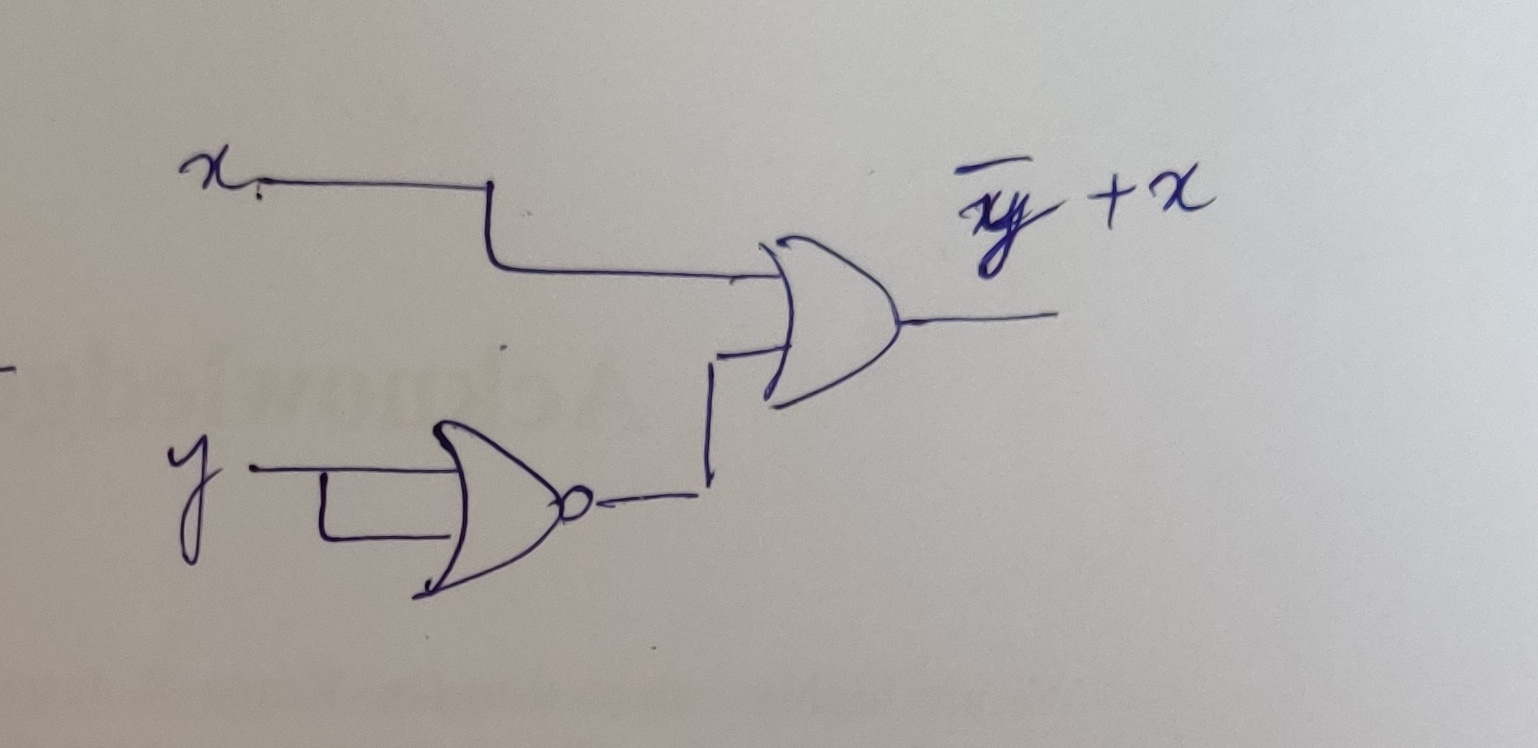nor: (402, 405, 614, 617)
or: (731, 222, 940, 436)
